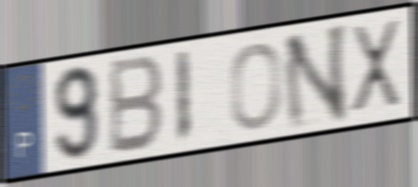9: (50, 62, 101, 165)
B: (107, 52, 166, 158)
I: (173, 47, 192, 148)
N: (281, 19, 351, 134)
O: (228, 39, 284, 133)
X: (348, 16, 404, 115)
